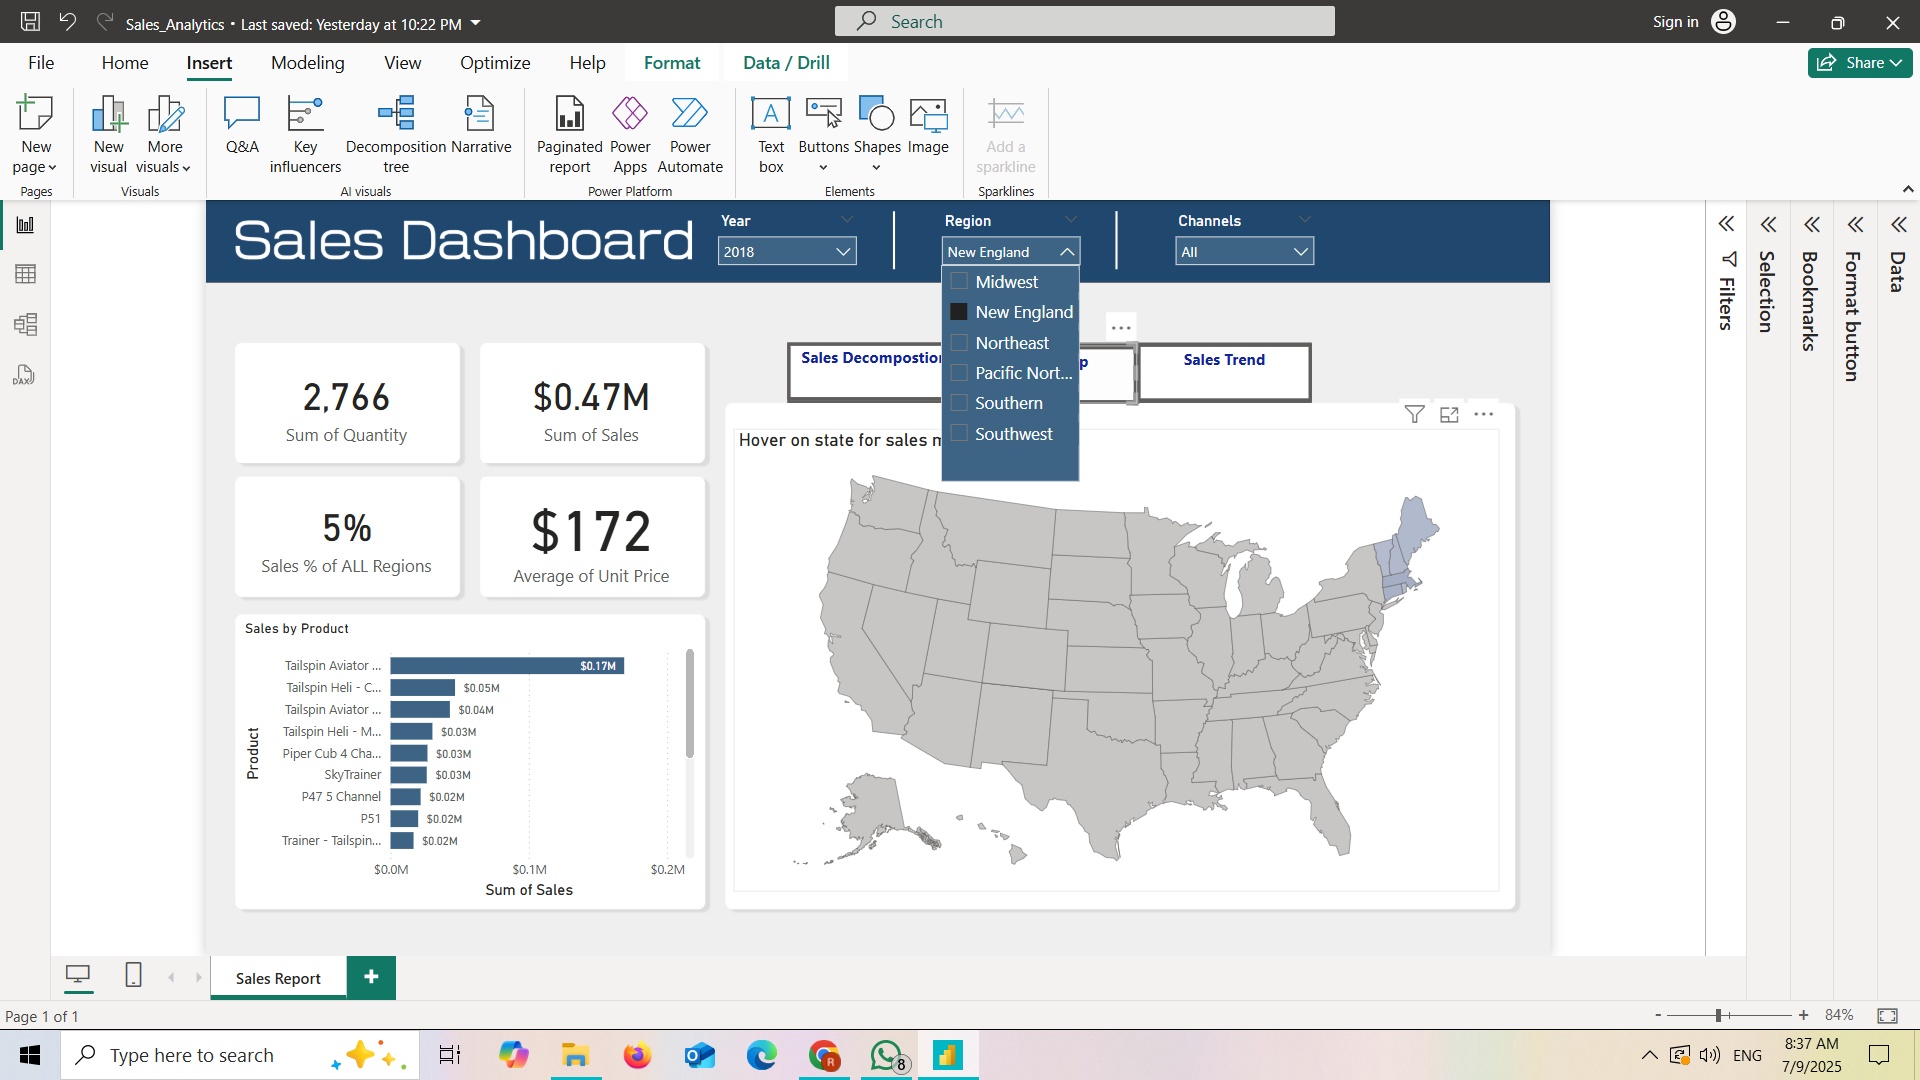

This screenshot's page, from the dashboard's own definition file:
{"tool":"powerbi","page":{"name":"Sales Report","canvas":[1280,720],"ordinal":0},"visuals":[{"type":"card","title":"Card Quantity","fields":{"Values":["Sum(Sales.Quantity)"]},"box":[29.5,138.7,208.1,110.5],"z":0},{"type":"card","title":"Card region","fields":{"Values":["Sales.Sales % of ALL Regions"]},"box":[29.5,264.6,208.1,110.5],"z":1000},{"type":"card","title":" Card sales","fields":{"Values":["Sum(Sales.Sales)"]},"box":[263.4,138.7,208.1,110.5],"z":2000},{"type":"card","title":"Card Unit price","fields":{"Values":["Avg(Sales.Unit Price)"]},"box":[263.4,264.6,208.1,110.5],"z":3000},{"type":"barChart","title":"Sales by Product","fields":{"Category":["Product.Product"],"Y":["Sum(Sales.Sales)"]},"box":[32,400,438,270],"z":4000},{"type":"slicer","fields":{"Values":["Date.Year"]},"box":[477.8,5.6,152,61],"z":5000},{"type":"slicer","fields":{"Values":["Region.Region"]},"box":[690,5.6,152.2,61.1],"z":6000},{"type":"slicer","fields":{"Values":["Product.Channels"]},"box":[913.3,5.6,152.2,61.1],"z":7000},{"type":"shape","box":[620,11.1,70,55.6],"z":8000},{"type":"shape","box":[832.2,11.1,70,55.6],"z":9000},{"type":"actionButton","title":"btn active:Decomposition","box":[553.8,135.9,166.3,54.9],"z":10000},{"type":"actionButton","title":"btn active:Trend","box":[886.4,137.4,166.3,54.9],"z":11000},{"type":"actionButton","title":" btn active:map","box":[723,138.8,166.3,54.9],"z":12000},{"type":"shapeMap","title":"Hover on state for sales map","fields":{"Category":["State.State Code"],"Value":["Sum(Sales.Sales)"]},"box":[502.3,217.4,730.2,440.7],"z":14000},{"type":"actionButton","box":[553.8,135.9,166.3,57.8],"z":17001},{"type":"actionButton","box":[720.1,135.9,166.3,57.8],"z":17002},{"type":"actionButton","box":[886.4,135.9,166.3,57.8],"z":17003}]}

Visuals, with their boxes on the page's 1280x720 design canvas (x1, y1, x2, y2). These are canvas units, not pixel positions in the 1920x1080 screenshot, which may show the page scaled, cropped or inside an application window:
"Card Quantity" card: select_region(30, 139, 238, 249)
"Card region" card: select_region(30, 265, 238, 375)
" Card sales" card: select_region(263, 139, 472, 249)
"Card Unit price" card: select_region(263, 265, 472, 375)
"Sales by Product" barChart: select_region(32, 400, 470, 670)
slicer - Date.Year: select_region(478, 6, 630, 67)
slicer - Region.Region: select_region(690, 6, 842, 67)
slicer - Product.Channels: select_region(913, 6, 1066, 67)
shape: select_region(620, 11, 690, 67)
shape: select_region(832, 11, 902, 67)
"btn active:Decomposition" actionButton: select_region(554, 136, 720, 191)
"btn active:Trend" actionButton: select_region(886, 137, 1053, 192)
" btn active:map" actionButton: select_region(723, 139, 889, 194)
"Hover on state for sales map" shapeMap: select_region(502, 217, 1232, 658)
actionButton: select_region(554, 136, 720, 194)
actionButton: select_region(720, 136, 886, 194)
actionButton: select_region(886, 136, 1053, 194)
